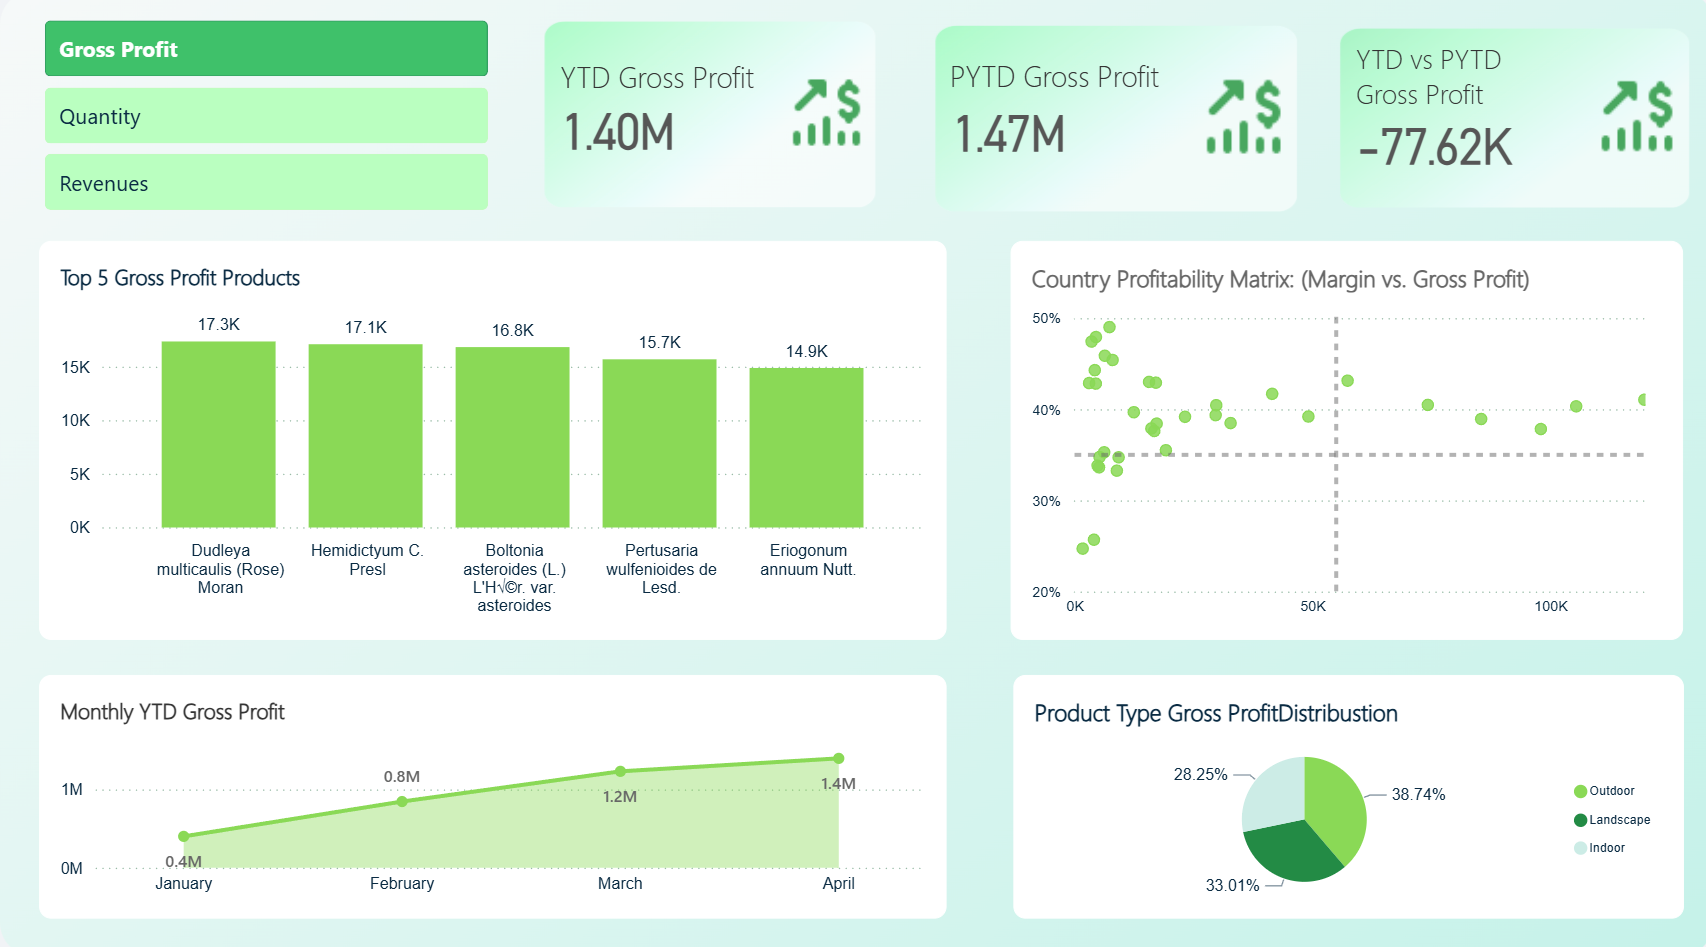

This screenshot's page, from the dashboard's own definition file:
{"tool":"powerbi","page":{"name":"Core Metrics Analysis","canvas":[1280,720],"ordinal":1},"visuals":[{"type":"image","box":[0,0,1279.5,720.5],"z":0},{"type":"advancedSlicerVisual","fields":{"Values":["Slicer_Values.Values"]},"box":[29,19.3,339.5,146.3],"z":1000},{"type":"cardVisual","fields":{"Data":["_Calculations.S_PYTD"]},"box":[694.9,22.6,277.4,145.8],"z":2000,"group":"g2"},{"type":"columnChart","fields":{"Category":["Dim_Product.Product_Name"],"Y":["_Calculations.S_YTD"]},"box":[29,186.3,677.7,298.1],"z":2000},{"type":"scatterChart","fields":{"X":["_Calculations.S_YTD"],"Y":["_Calculations.Gross Margin %"],"Category":["Accounts.country"]},"box":[755,186.3,502.4,298.1],"z":3000},{"type":"cardVisual","fields":{"Data":["_Calculations.S_YTD"]},"box":[403.3,19.8,254.8,145.8],"z":4000,"group":"g3"},{"type":"cardVisual","fields":{"Data":["_Calculations.YTD vs PYTD"]},"box":[997.8,25.5,267.5,140.1],"z":4000,"group":"g1"},{"type":"pieChart","fields":{"Category":["Dim_Product.Produt_Type"],"Y":["_Calculations.S_YTD"]},"box":[756.4,510.7,501,182.2],"z":4000},{"type":"areaChart","fields":{"Category":["Dim_Date.MonthName"],"Y":["_Calculations.S_YTD"]},"box":[29,510.7,677.7,182.2],"z":5000},{"type":"group","id":"g1","title":"Group 3","box":[997.8,25.5,267.5,140.1],"z":6000},{"type":"group","id":"g2","title":"Group 1","box":[694.2,22.6,278.1,145.8],"z":7000},{"type":"group","id":"g3","title":"Group 2","box":[403,19.8,255.1,145.8],"z":8000},{"type":"shape","box":[403,34.5,178,51.1],"z":8000,"group":"g3"},{"type":"shape","box":[694.2,33.1,191.9,51.1],"z":9004,"group":"g2"},{"type":"shape","box":[997.9,27.6,167,67.6],"z":9504,"group":"g1"}]}

Visuals, with their boxes in screenshot pixels (x1, y1, x2, y2), scaled from the page's 1280x720 canvas onto the 1706x947 screenshot:
image: select_region(0, 0, 1705, 946)
advancedSlicerVisual - Slicer_Values.Values: select_region(39, 25, 491, 218)
cardVisual - _Calculations.S_PYTD: select_region(926, 30, 1296, 221)
columnChart - Dim_Product.Product_Name x _Calculations.S_YTD: select_region(39, 245, 942, 637)
scatterChart - _Calculations.S_YTD x _Calculations.Gross Margin %: select_region(1006, 245, 1676, 637)
cardVisual - _Calculations.S_YTD: select_region(538, 26, 877, 218)
cardVisual - _Calculations.YTD vs PYTD: select_region(1330, 34, 1686, 218)
pieChart - Dim_Product.Produt_Type x _Calculations.S_YTD: select_region(1008, 672, 1676, 911)
areaChart - Dim_Date.MonthName x _Calculations.S_YTD: select_region(39, 672, 942, 911)
"Group 3" group: select_region(1330, 34, 1686, 218)
"Group 1" group: select_region(925, 30, 1296, 221)
"Group 2" group: select_region(537, 26, 877, 218)
shape: select_region(537, 45, 774, 113)
shape: select_region(925, 44, 1181, 111)
shape: select_region(1330, 36, 1553, 125)
